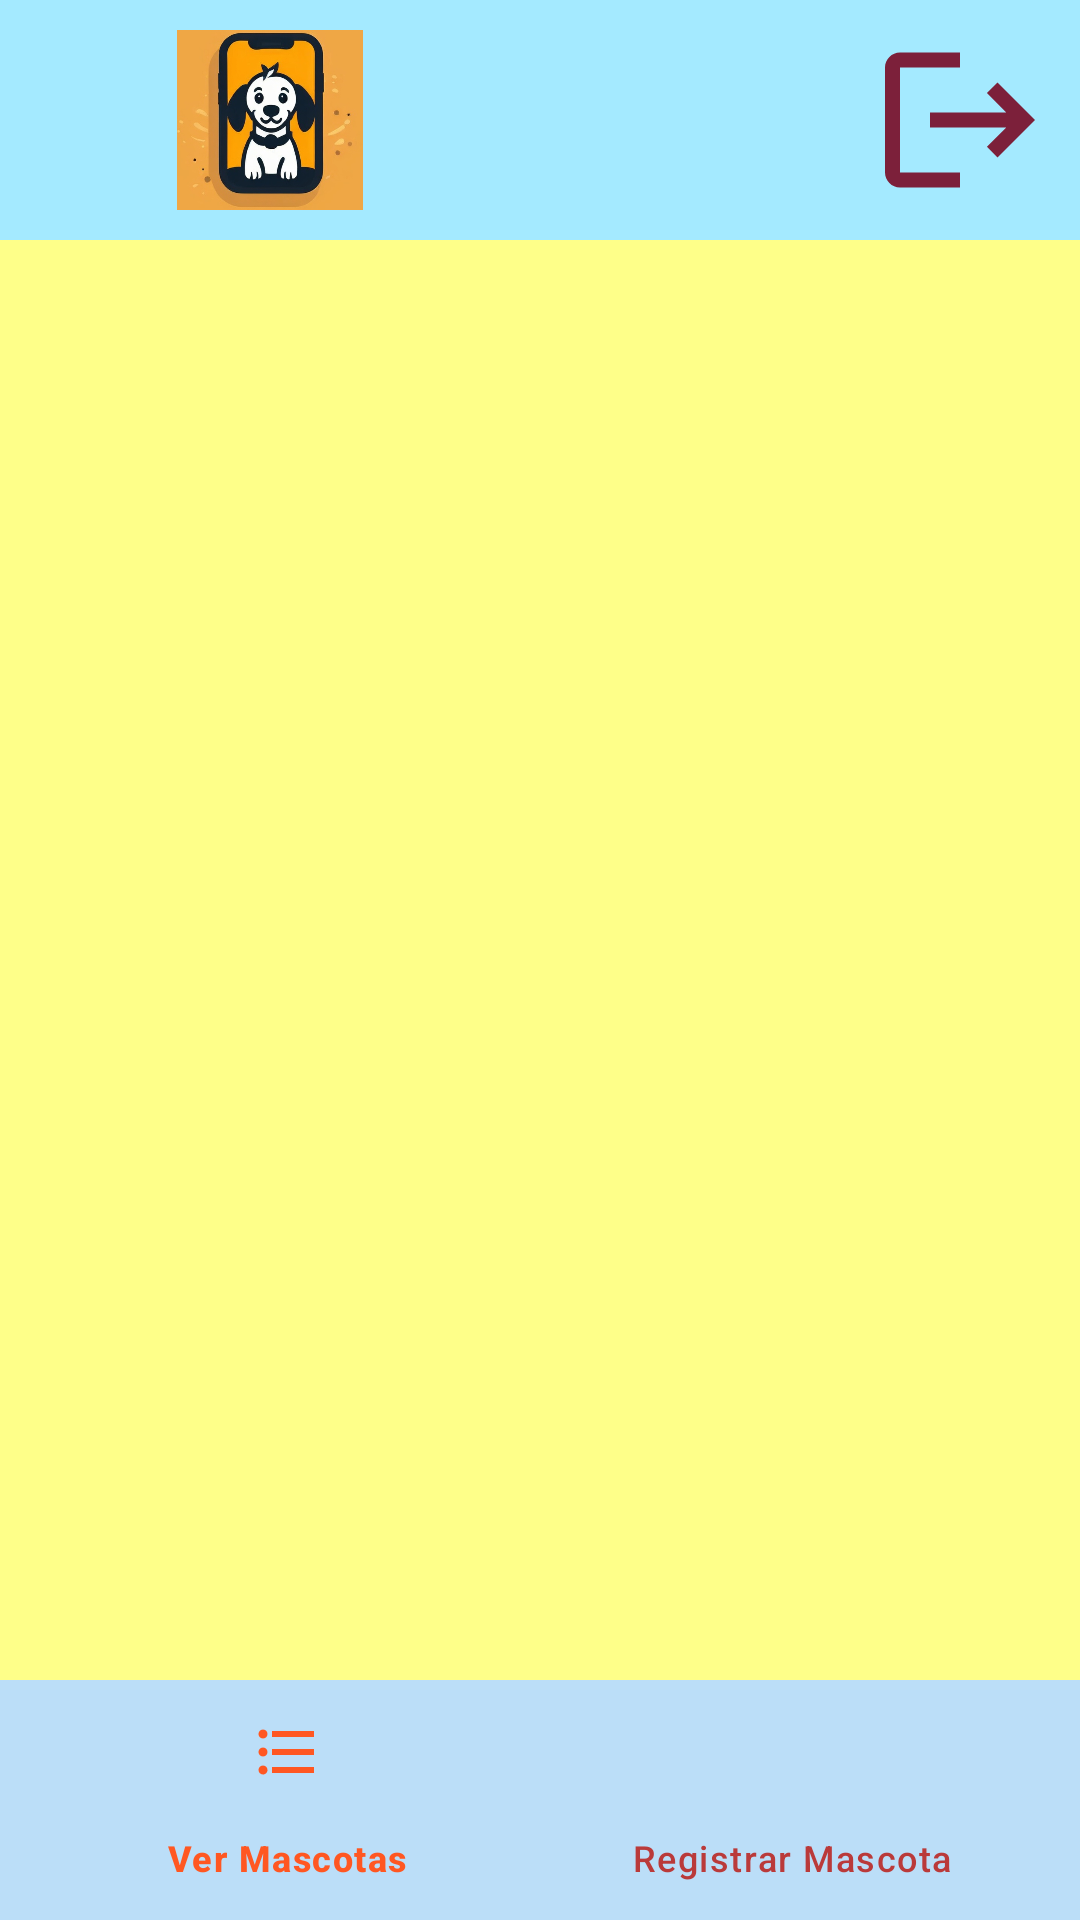

Icons on this 1080px×1920px Android screen, each with its box as (x1, y1, x2, y2):
Icono salir: (885, 52, 1035, 188)
